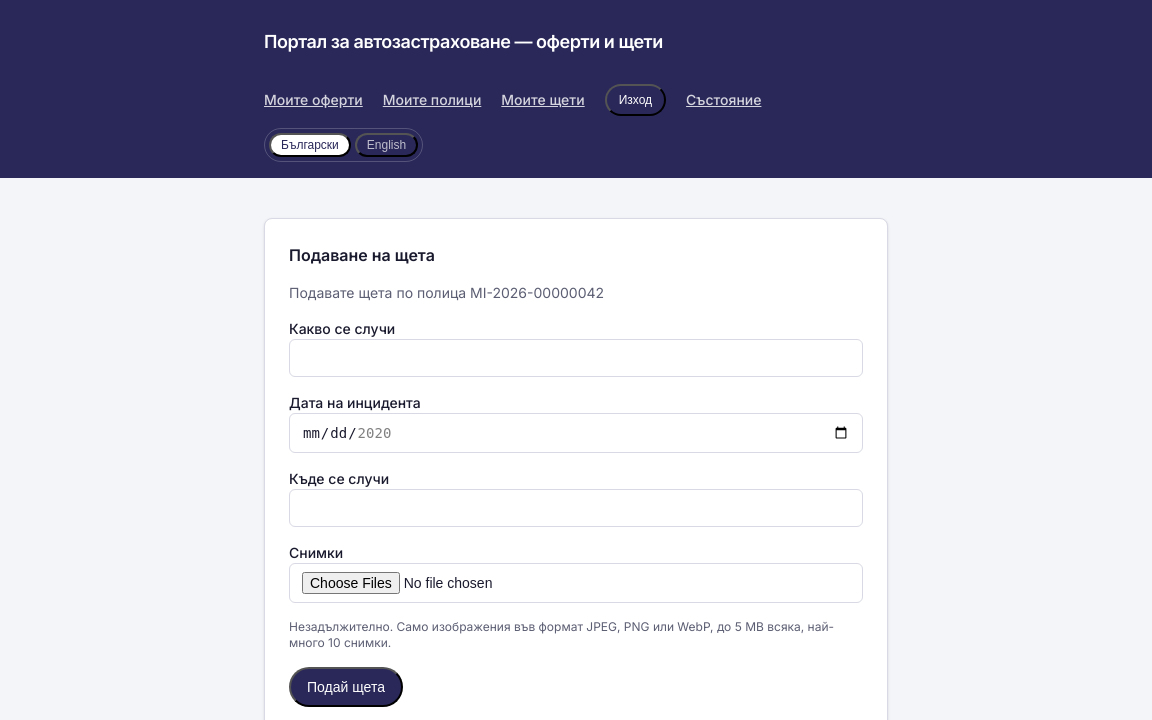
FnolForm › renders a field-level error under incident date for a future-incident-date rejection
Type "Rear bumper damage in a parking-lot collision." into the field labelled "Какво се случи".
click(576, 358); type("Rear bumper damage in a parking-lot collision.")  # box x1=289 y1=339 x2=863 y2=377
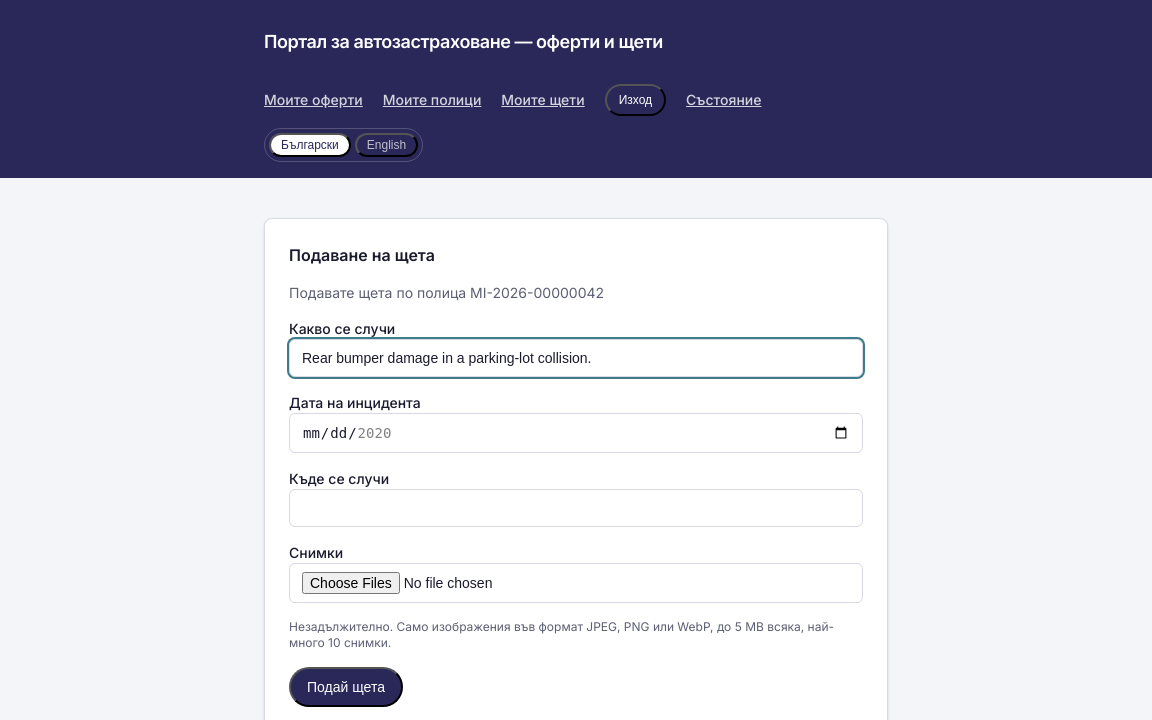
Type "2020-06-01" into the date field labelled "Дата на инцидента".
click(576, 433); type("2020-06-01")  # box x1=289 y1=413 x2=863 y2=453
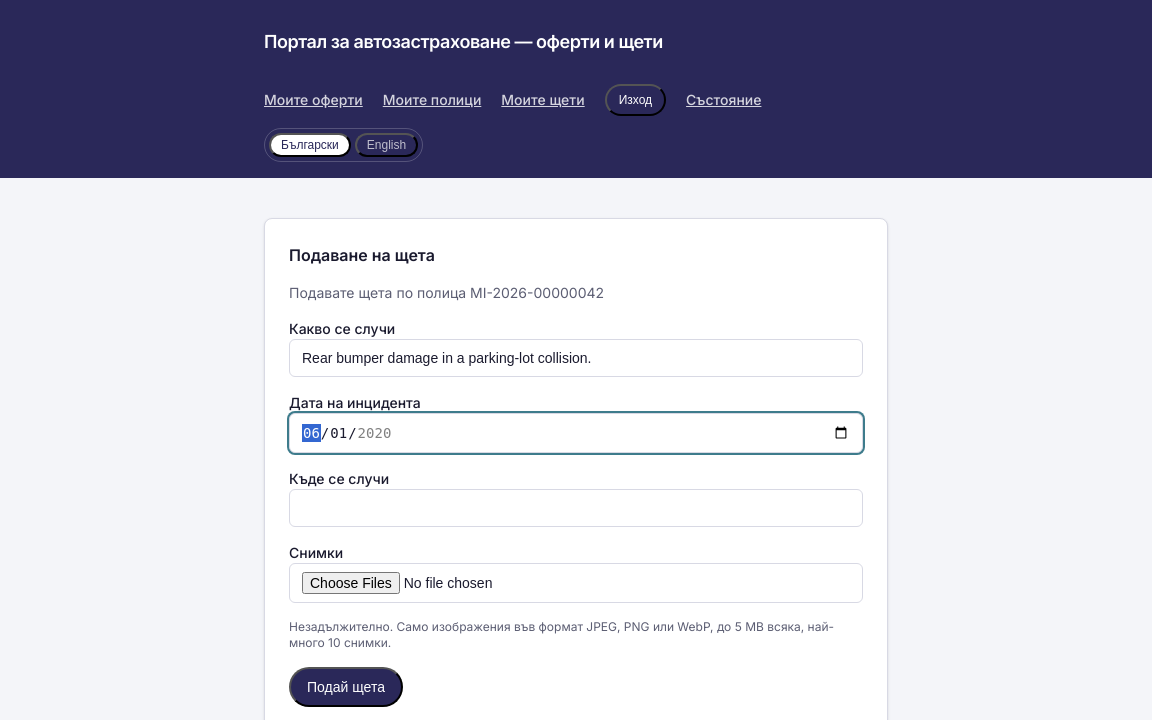
Type "Sofia, near NDK" into the field labelled "Къде се случи".
click(576, 508); type("Sofia, near NDK")  # box x1=289 y1=489 x2=863 y2=527
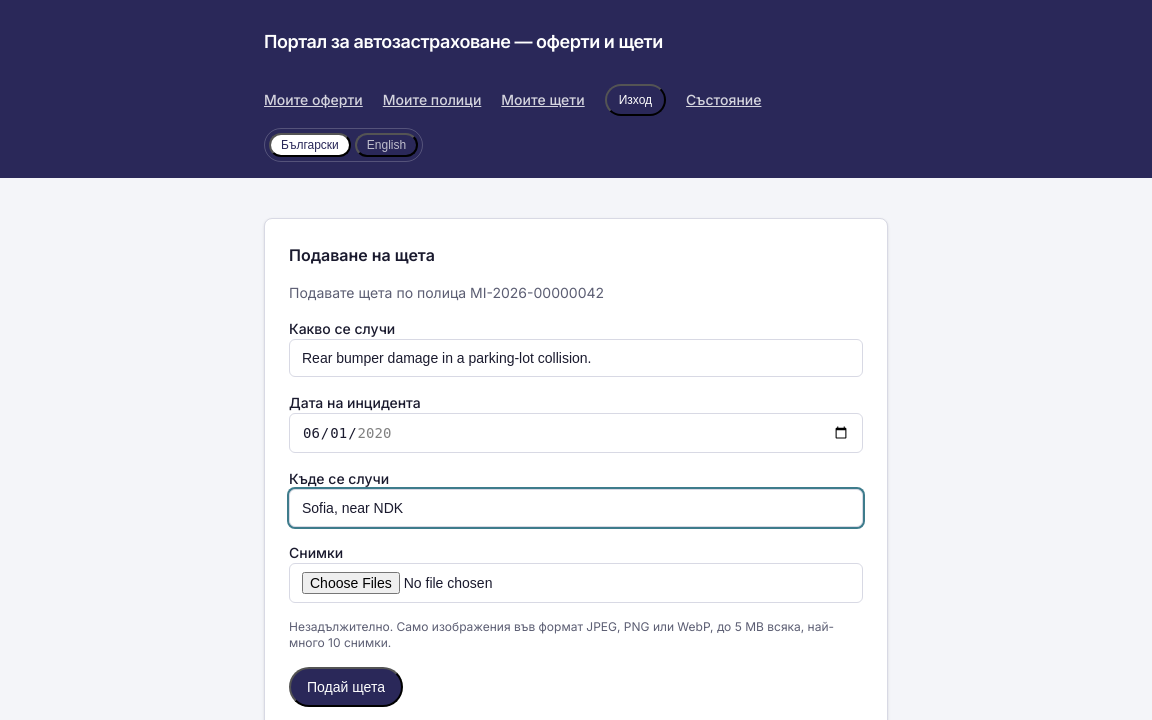
Click the button "Подай щета".
click(346, 687)  # box x1=289 y1=667 x2=403 y2=707
(page scrolled)
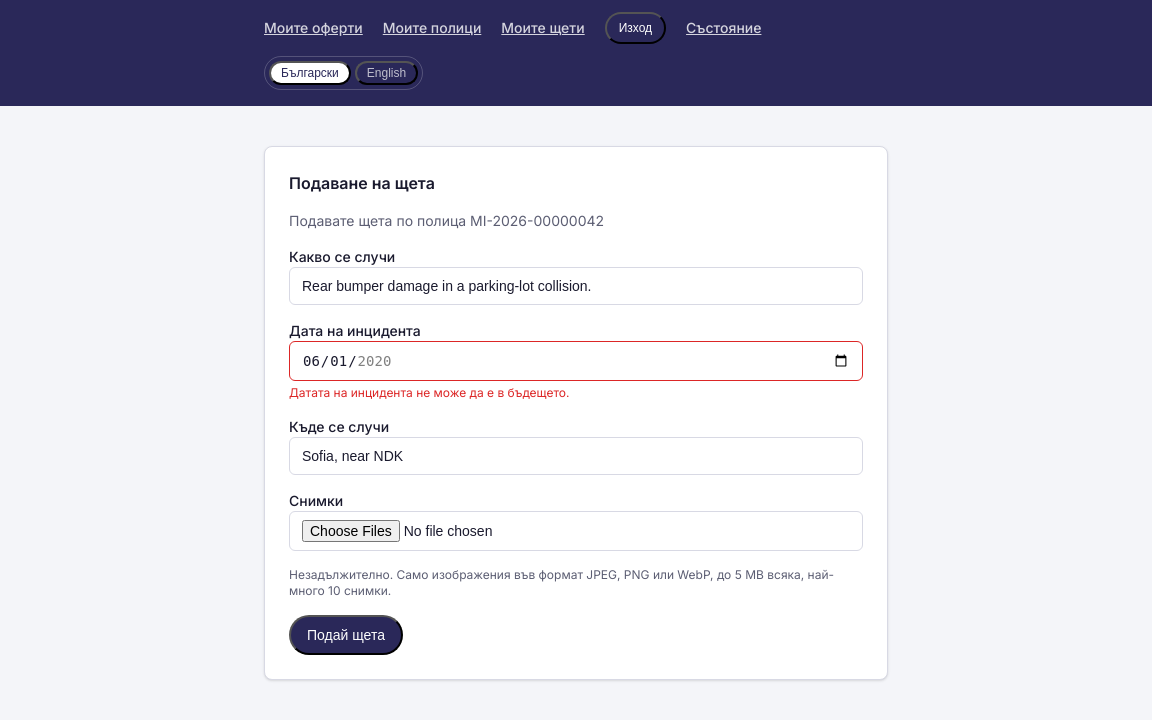
Expected: the button "Подай щета" is enabled, x1=289 y1=615 x2=403 y2=655
Expected: the text "Датата на инцидента не може да е в бъдещето." is shown, x1=289 y1=385 x2=570 y2=400
